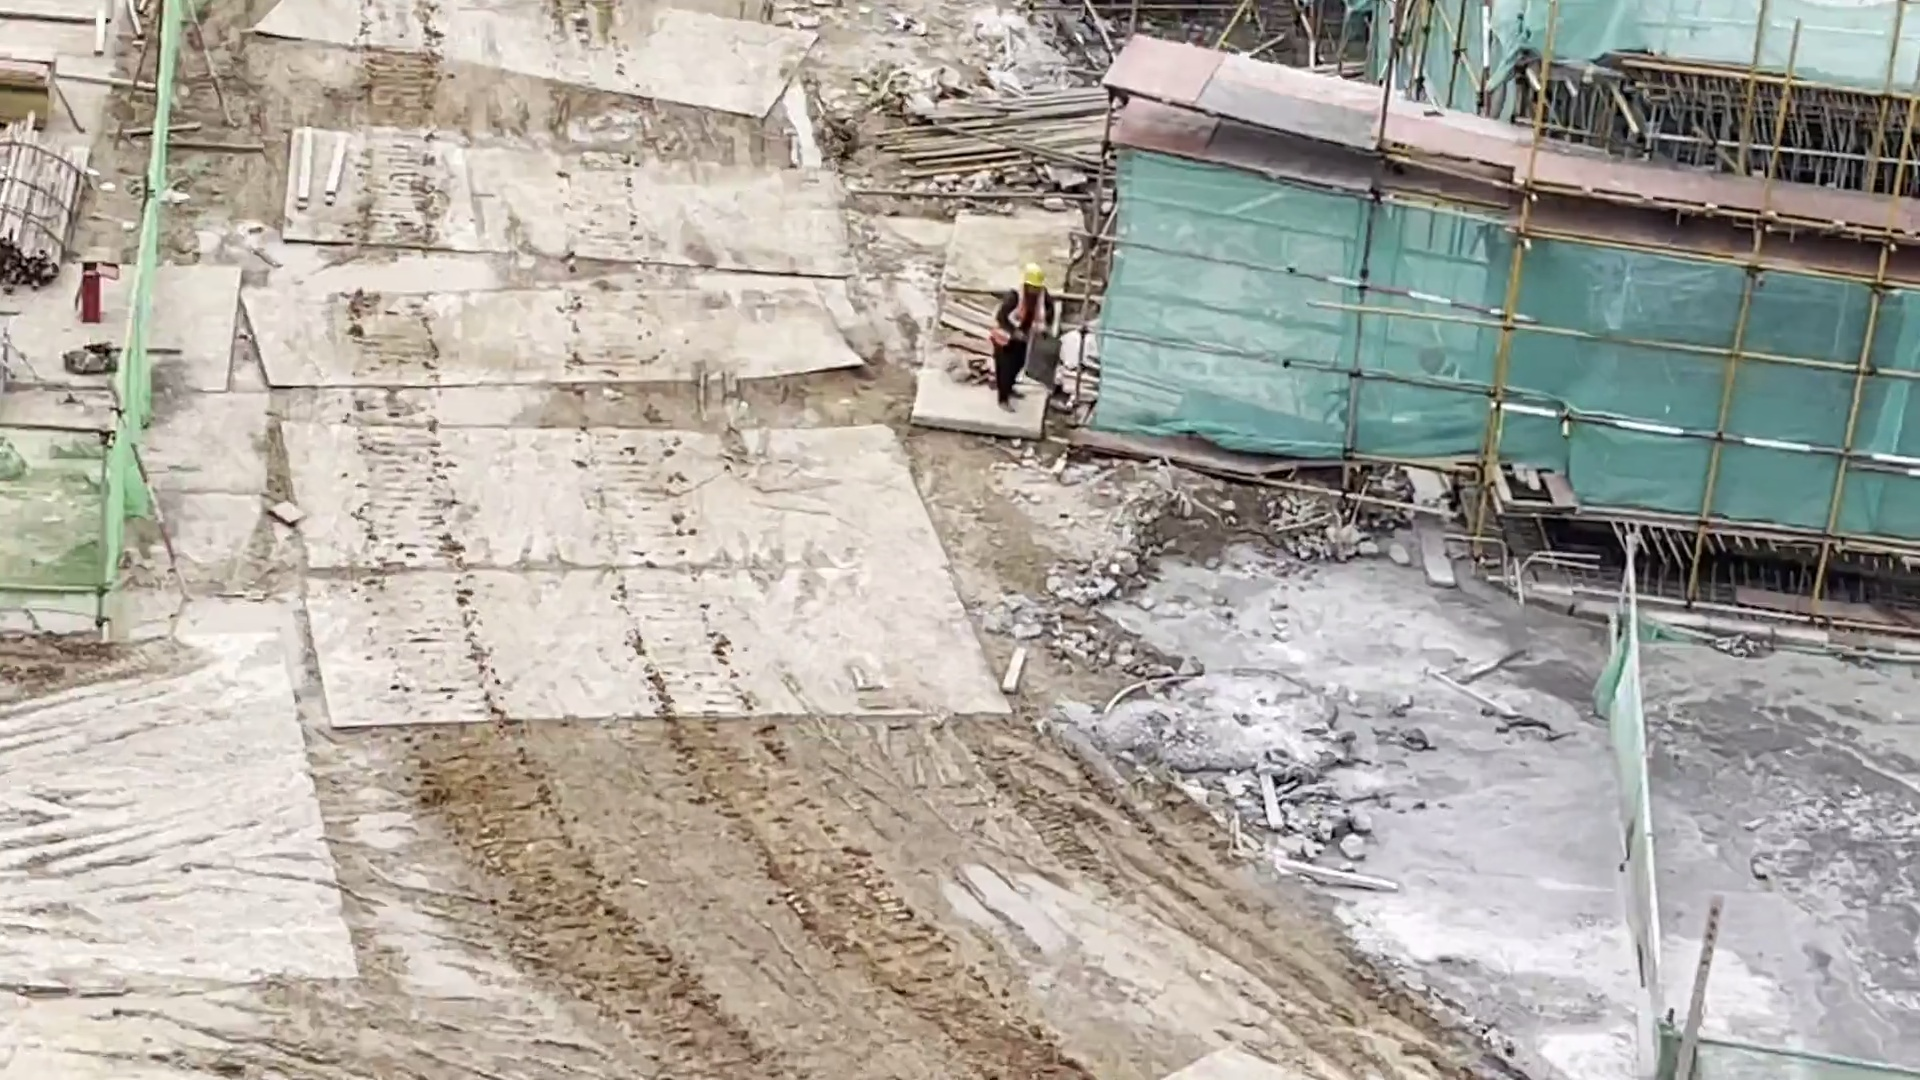helmet: (1021, 263, 1042, 283)
person: (990, 265, 1054, 406)
vest: (994, 286, 1047, 347)
